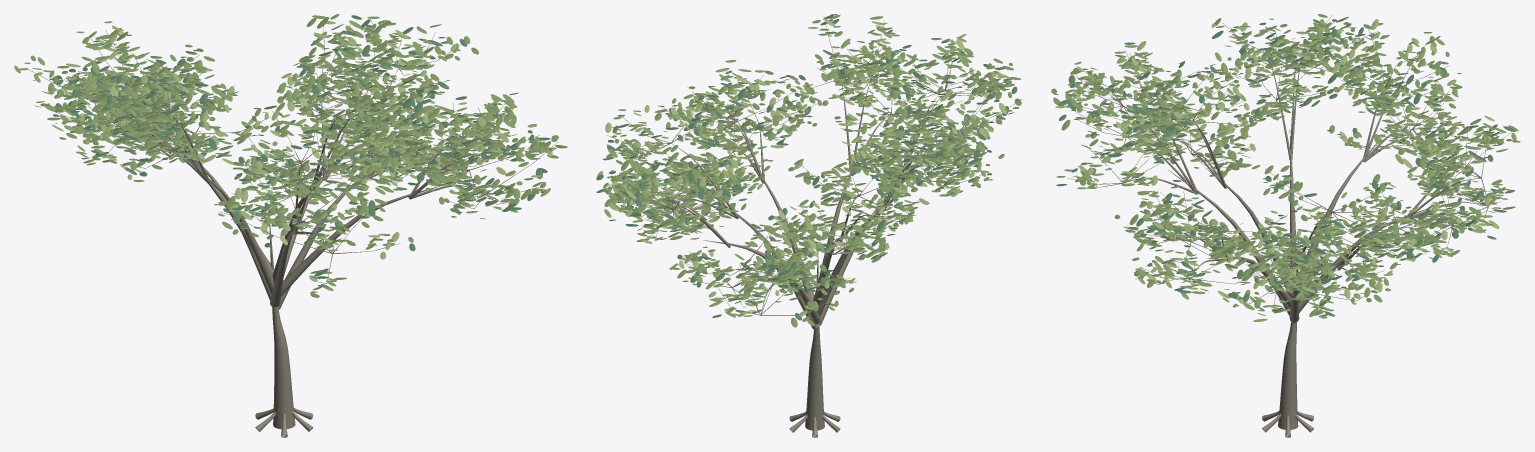
File: tree0b.glb
The picture shows the model from 3 angles, left to right: view 1: azimuth 30°, elevation 25°; view 2: azimuth 150°, elevation 25°; view 3: azimuth 270°, elevation 25°; orthographic projection. The views are drawn at different scales.
Visible parts, largest first — view 1: Tree0b_Leaf, Tree0b_LeafLight, Tree0b_Trunk, Tree0b_LeafDark; view 2: Tree0b_Leaf, Tree0b_LeafLight, Tree0b_Trunk, Tree0b_LeafDark; view 3: Tree0b_Leaf, Tree0b_LeafLight, Tree0b_Trunk, Tree0b_LeafDark.
Part boxes in pixels (bbox=[...]): Tree0b_Leaf: bbox=[14, 14, 567, 297]; Tree0b_LeafLight: bbox=[32, 21, 552, 292]; Tree0b_Trunk: bbox=[25, 21, 558, 437]; Tree0b_LeafDark: bbox=[53, 15, 550, 287]; Tree0b_Leaf: bbox=[602, 14, 1022, 327]; Tree0b_LeafLight: bbox=[596, 18, 1010, 316]; Tree0b_Trunk: bbox=[604, 16, 1018, 437]; Tree0b_LeafDark: bbox=[596, 15, 1017, 320]; Tree0b_Leaf: bbox=[1051, 14, 1518, 318]; Tree0b_LeafLight: bbox=[1054, 19, 1520, 321]; Tree0b_Trunk: bbox=[1054, 15, 1510, 437]; Tree0b_LeafDark: bbox=[1056, 19, 1515, 316].
Bounding box in the file's own units: 10.69 × 9.62 × 11.46.
